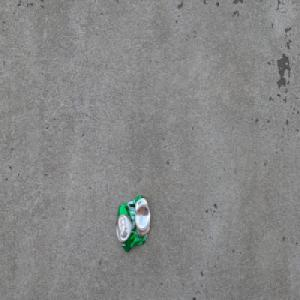SodaCan: (115, 194, 151, 253)
